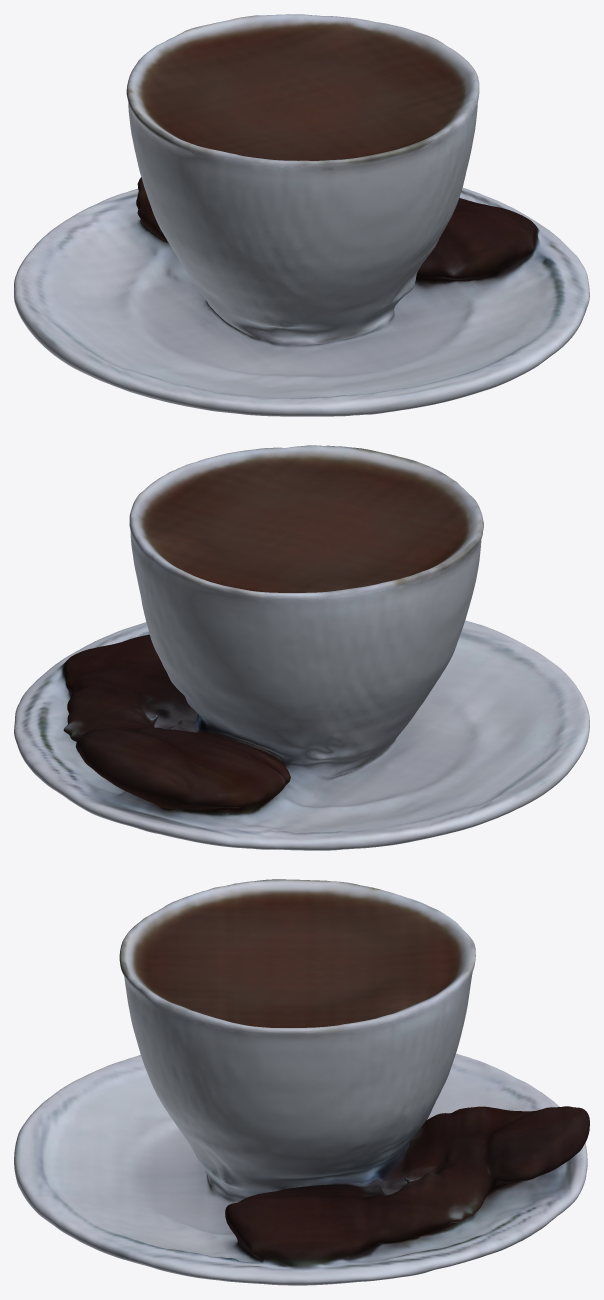
The model's file is coffee moca.glb.
3 views of the same model, one above another, from view 1: azimuth 30°, elevation 25°; view 2: azimuth 150°, elevation 25°; view 3: azimuth 270°, elevation 25° (orthographic).
Visible parts, largest first — view 1: high_poly; view 2: high_poly; view 3: high_poly.
Boxes of the visible parts, left/top/right/bottom form: high_poly: left=14, top=14, right=589, bottom=416; high_poly: left=14, top=445, right=589, bottom=850; high_poly: left=14, top=879, right=589, bottom=1285.
Size of the model in its own units: 0.9912 by 0.4456 by 1.
1 material, 1 textured.
